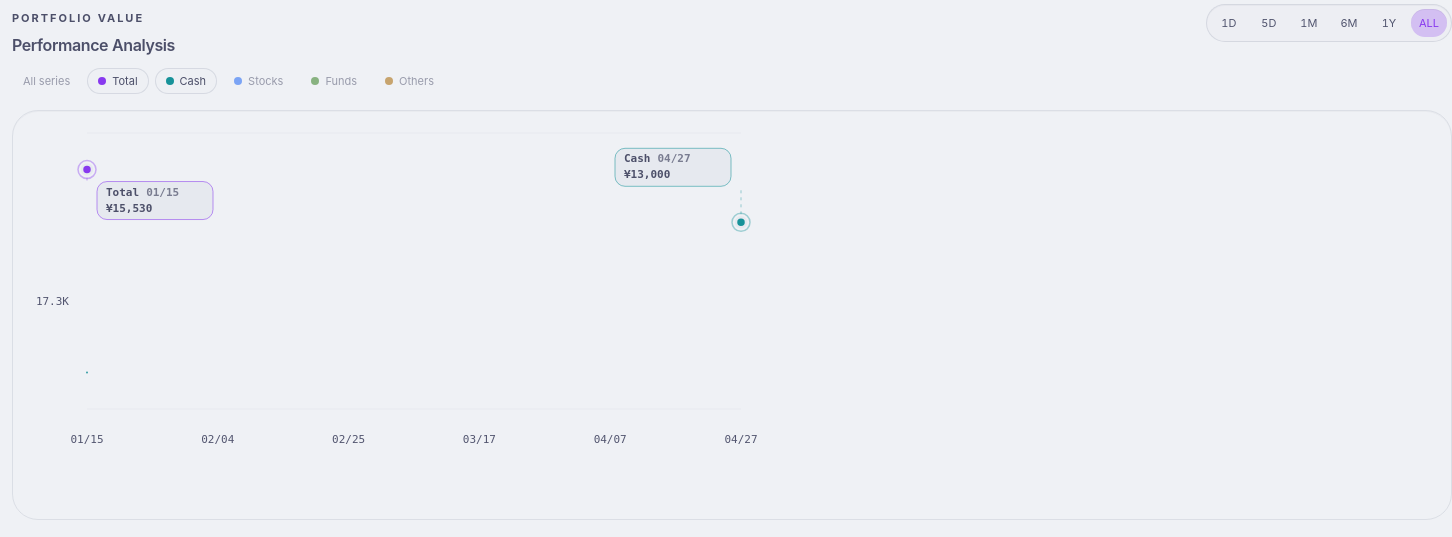
Test: does not show portfolio unrealized pnl as cash-line pnl
Click the button "Total".
click(118, 81)  # box [87, 68, 148, 94]
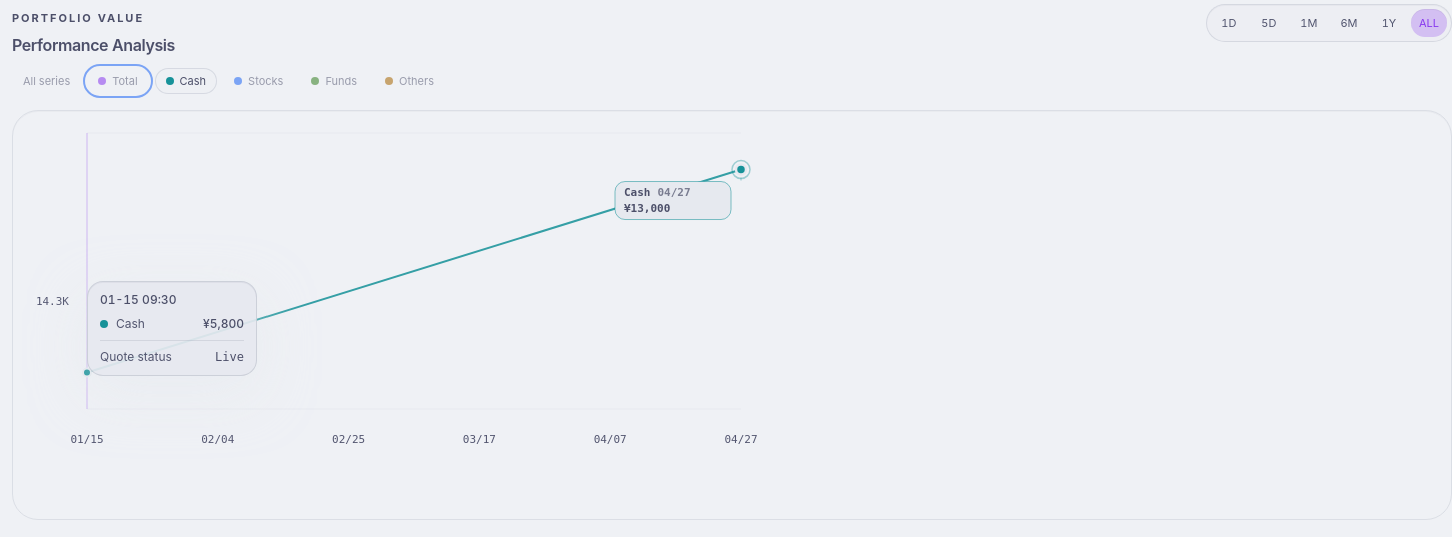
Expected: the icon with class "recharts-surface" is shown, [13, 111, 813, 491]
Expected: the element with class "recharts-tooltip-wrapper" shows "Cash", [116, 316, 145, 331]
Expected: the element with class "recharts-tooltip-wrapper" shows "¥5,800", [203, 316, 244, 331]
